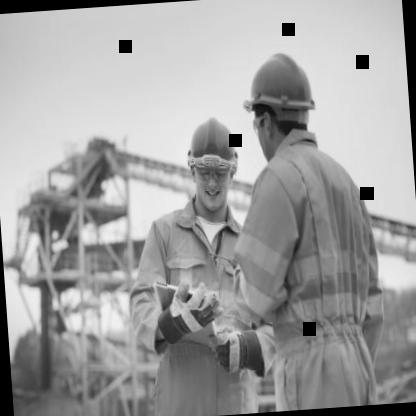helmet: (236, 38, 323, 168), (177, 110, 247, 222)
